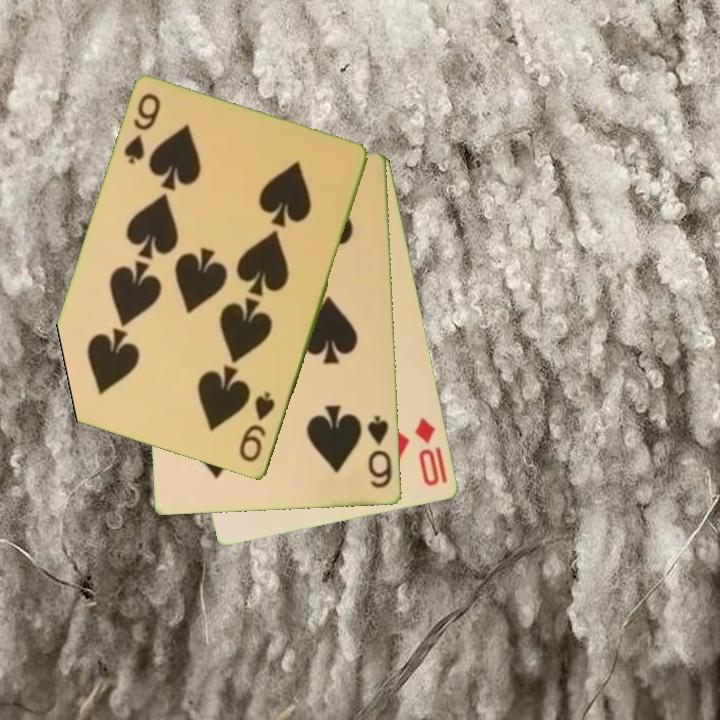10d: (412, 414, 443, 490)
6s: (364, 413, 396, 492)
9s: (120, 90, 164, 168), (236, 388, 278, 466)
